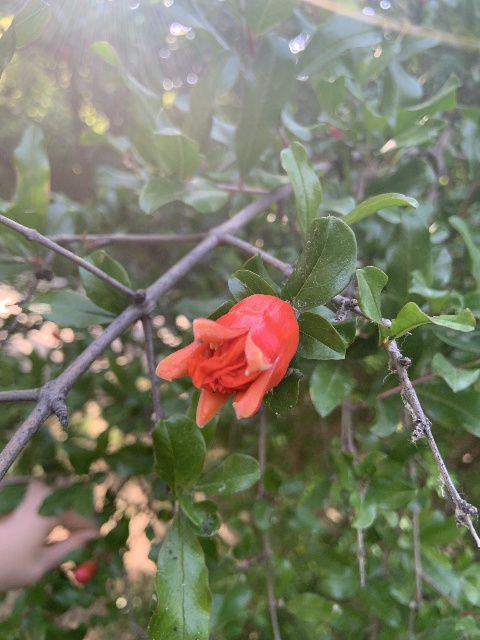bud: (75, 561, 96, 582)
flower: (156, 293, 299, 426)
